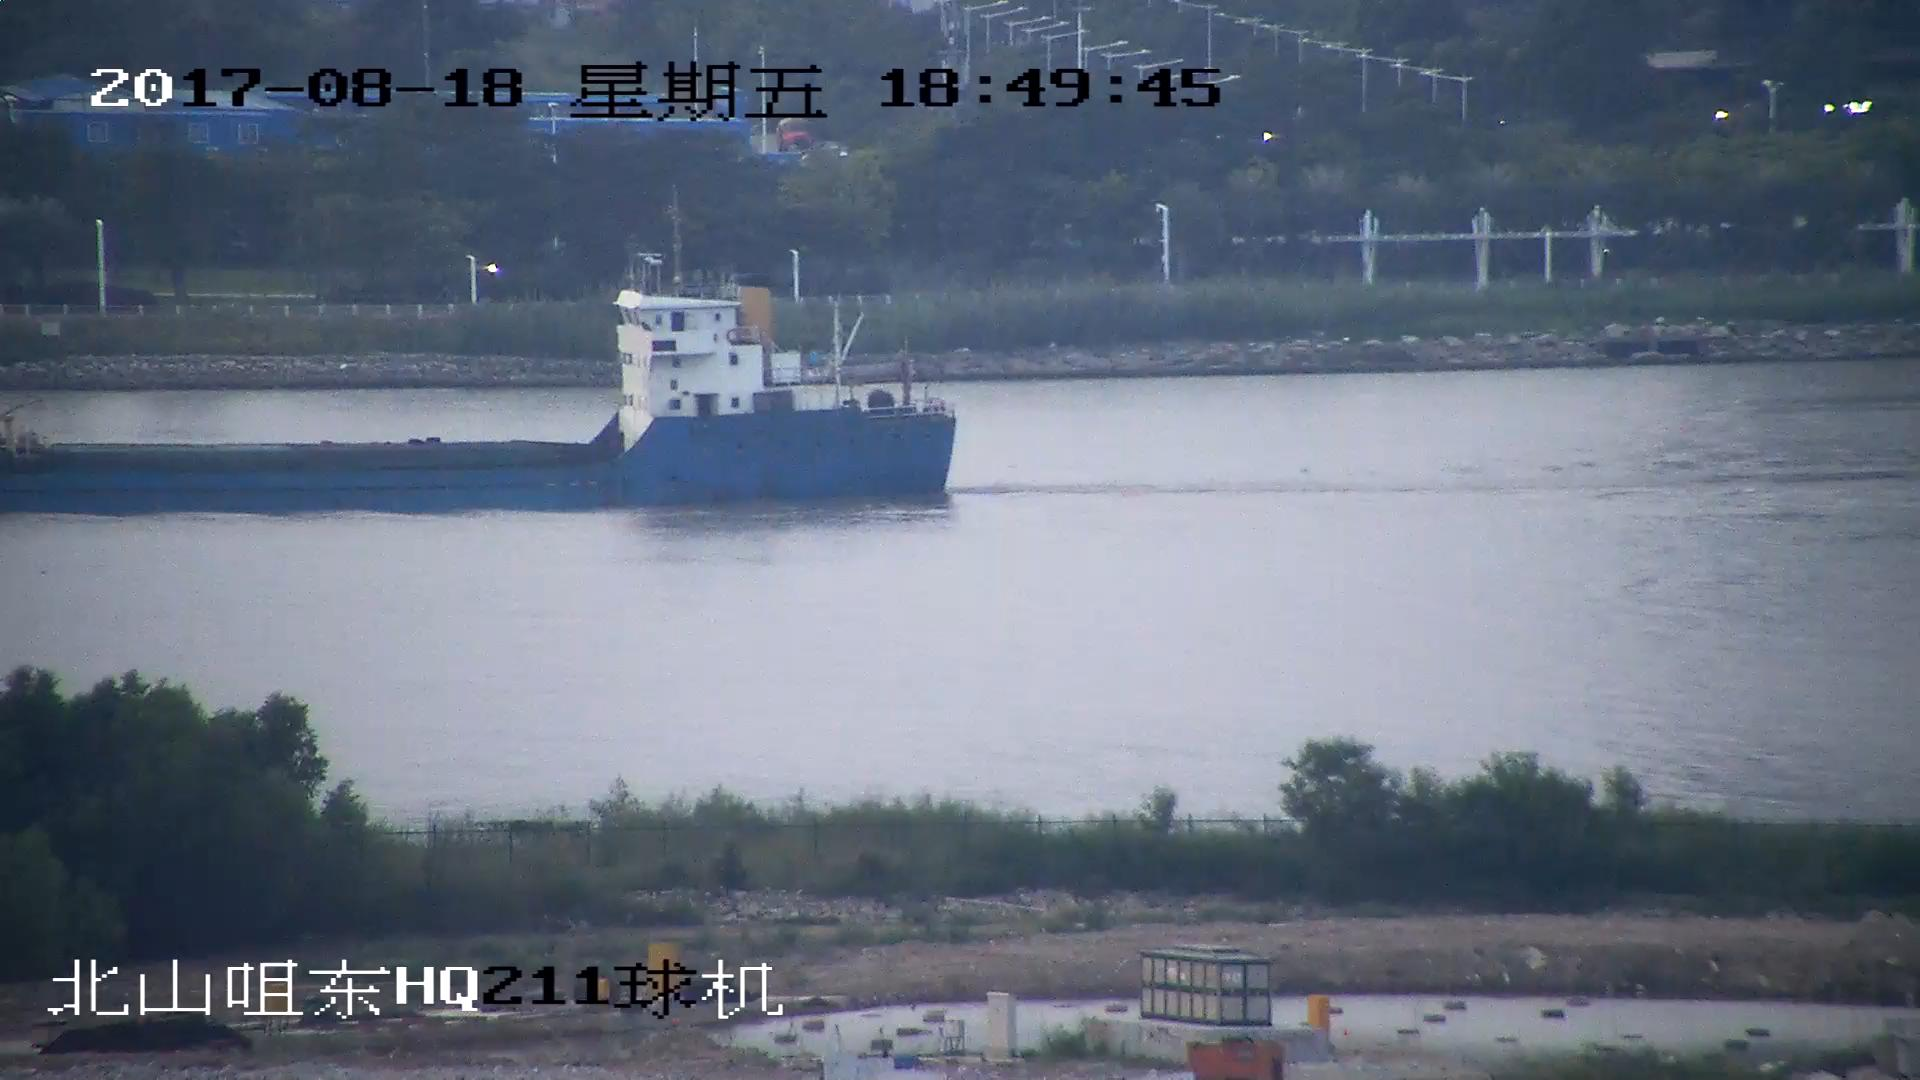general cargo ship: (1, 255, 958, 509)
